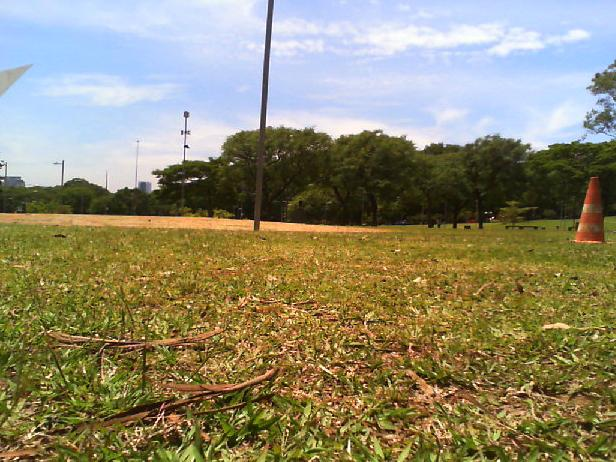0 cone: (573, 177, 606, 243)
